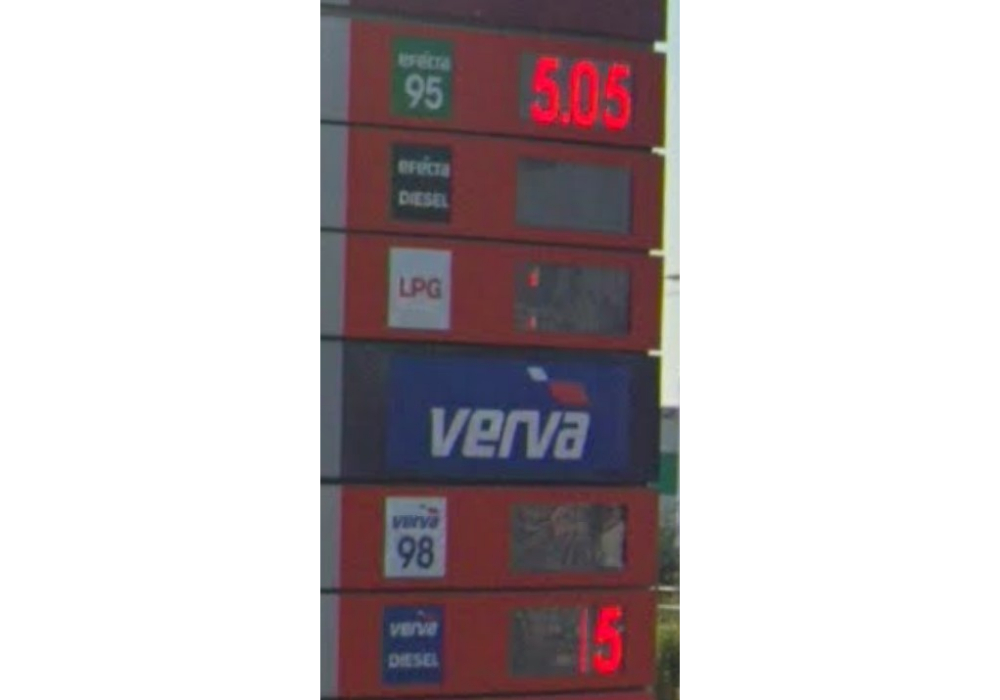LPG: (382, 246, 456, 334)
PB95: (388, 33, 454, 117)
PB98: (384, 495, 449, 581)
